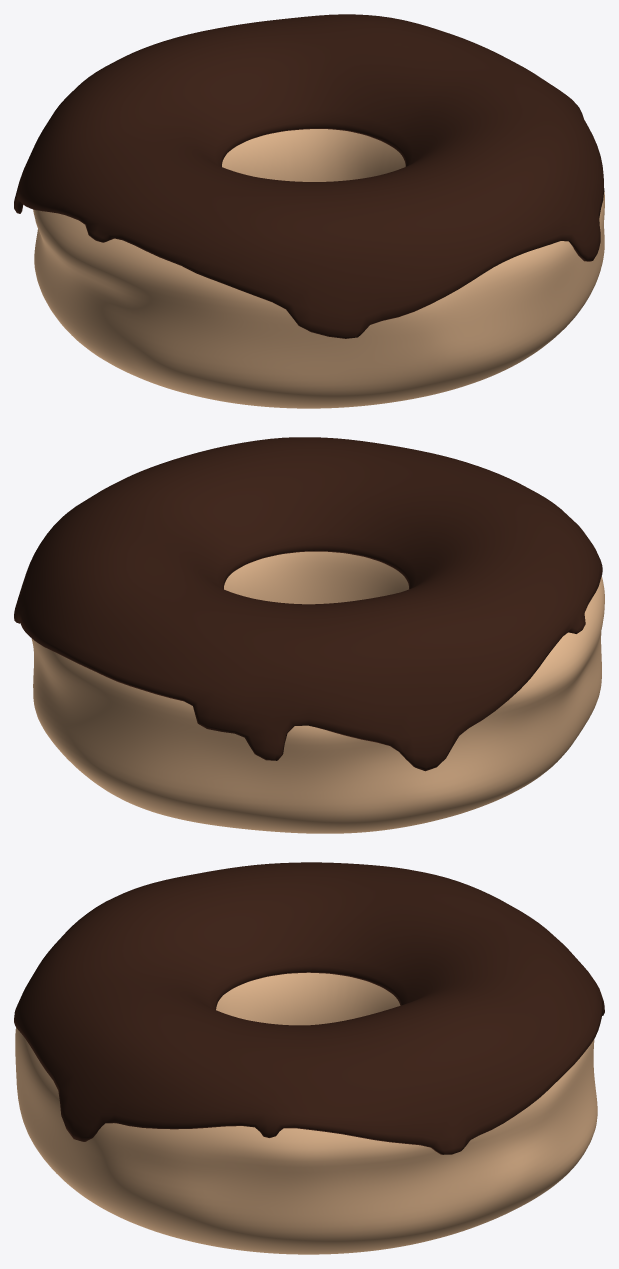
Rendered from donut.gltf.glb.
The picture shows the model from 3 angles, top to bottom: view 1: azimuth 30°, elevation 25°; view 2: azimuth 150°, elevation 25°; view 3: azimuth 270°, elevation 25°; orthographic projection.
Parts seen in each view (by area): view 1: Icing, Donut; view 2: Icing, Donut; view 3: Icing, Donut.
Part boxes in pixels (x1=…): Icing: x1=14, y1=14, x2=604, y2=338; Donut: x1=33, y1=129, x2=604, y2=408; Icing: x1=14, y1=437, x2=602, y2=771; Donut: x1=31, y1=551, x2=604, y2=833; Icing: x1=14, y1=862, x2=604, y2=1154; Donut: x1=15, y1=972, x2=597, y2=1254.
Size of what is drawn, in the model's own units: 0.1512 by 0.0619 by 0.1524.
